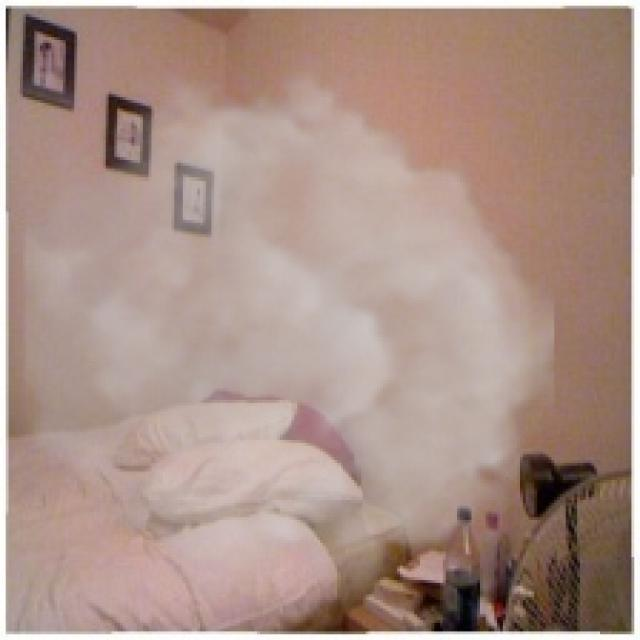Smoke: (22, 51, 554, 612)
